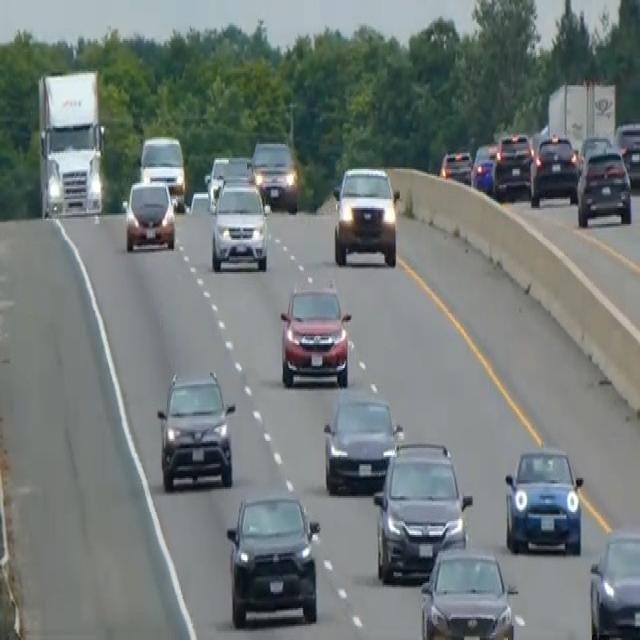car: (372, 438, 472, 582), (225, 490, 321, 628), (155, 366, 236, 491), (419, 544, 517, 638), (503, 444, 584, 554), (322, 391, 403, 494), (279, 281, 351, 387), (331, 162, 400, 266), (588, 528, 639, 638), (210, 178, 268, 272), (576, 144, 632, 228), (121, 176, 176, 252), (138, 133, 186, 210), (530, 132, 579, 206), (250, 137, 299, 211), (491, 131, 534, 201), (613, 119, 639, 185), (470, 140, 498, 194), (203, 153, 229, 210), (439, 146, 472, 185), (577, 132, 611, 166), (221, 153, 255, 185)
lorry: (35, 66, 107, 220)
